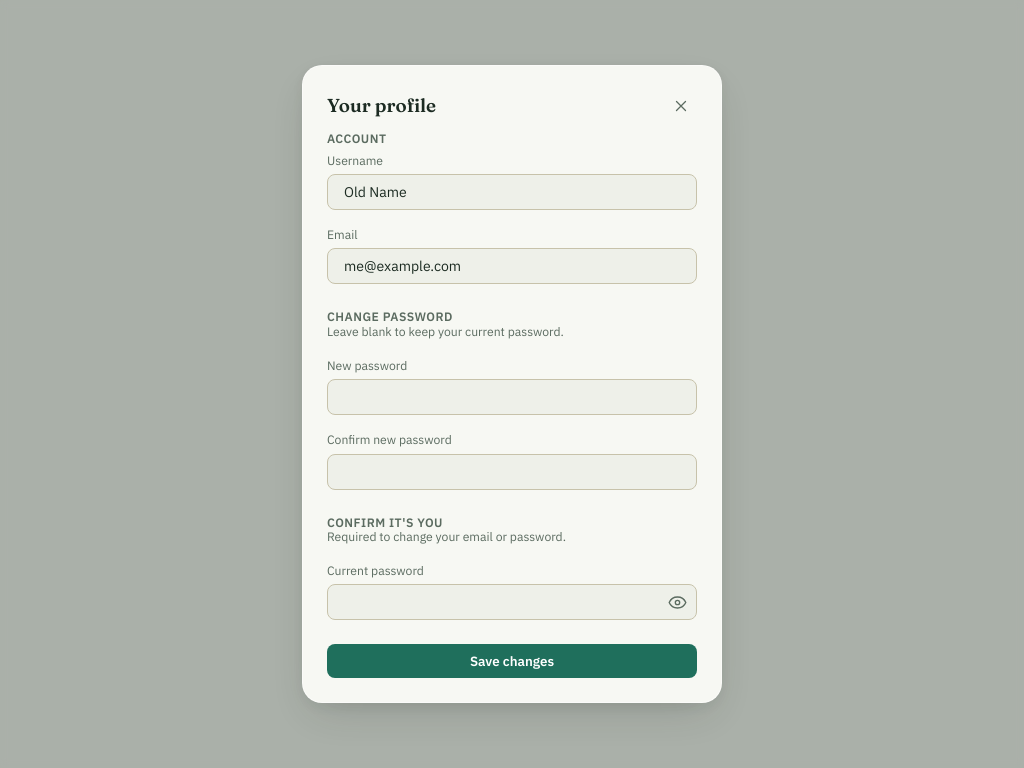
it: ProfileModalComponent › changes the email once the current password is provided
Replace the text in the field labelled "Email" with "new@example.com": (512, 266) [327, 248, 697, 284]
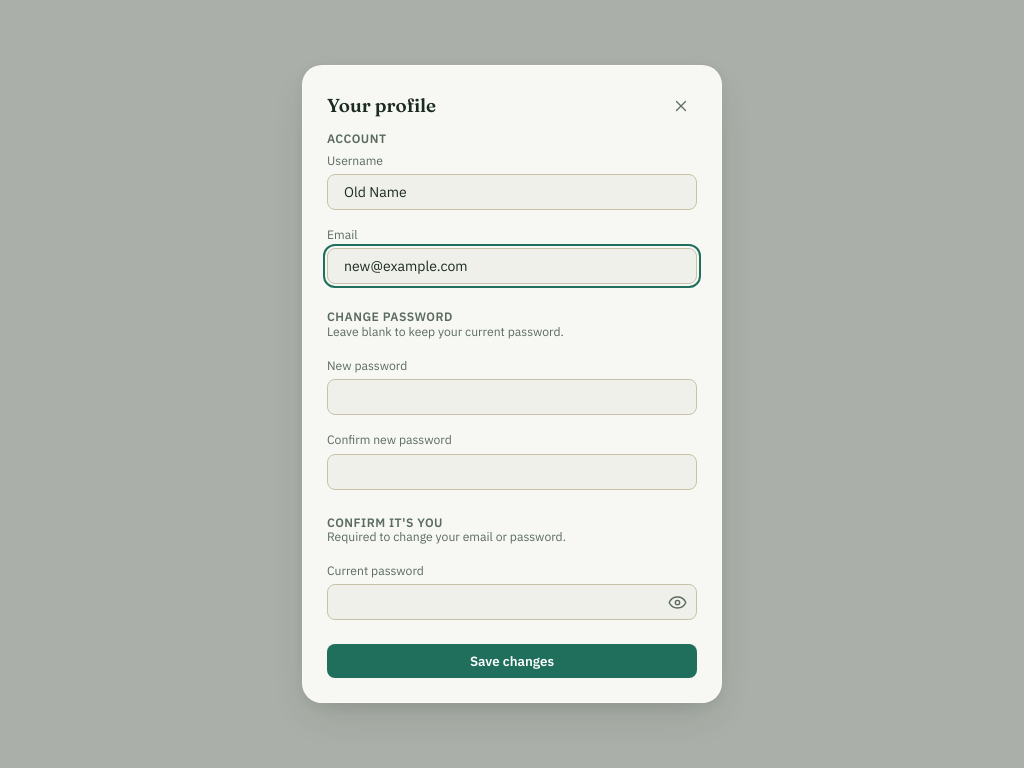
In the password field labelled "Current password": (512, 602) [327, 584, 697, 620], type "hunter22"
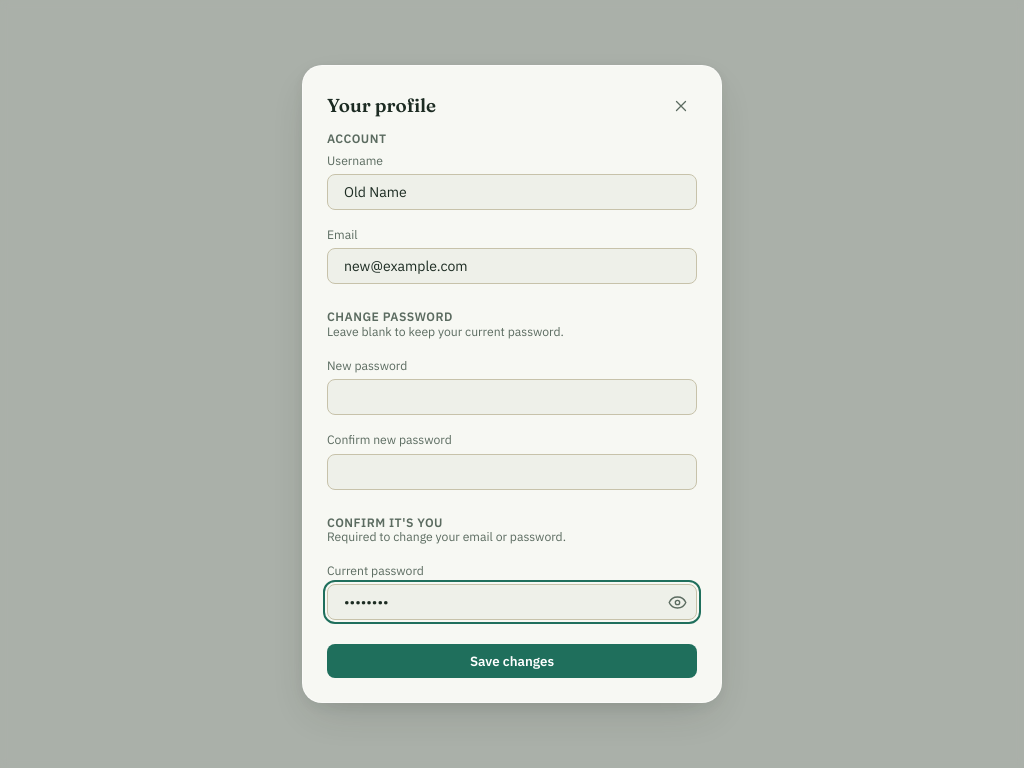
Click the button "Save changes": (512, 661) [327, 644, 697, 678]
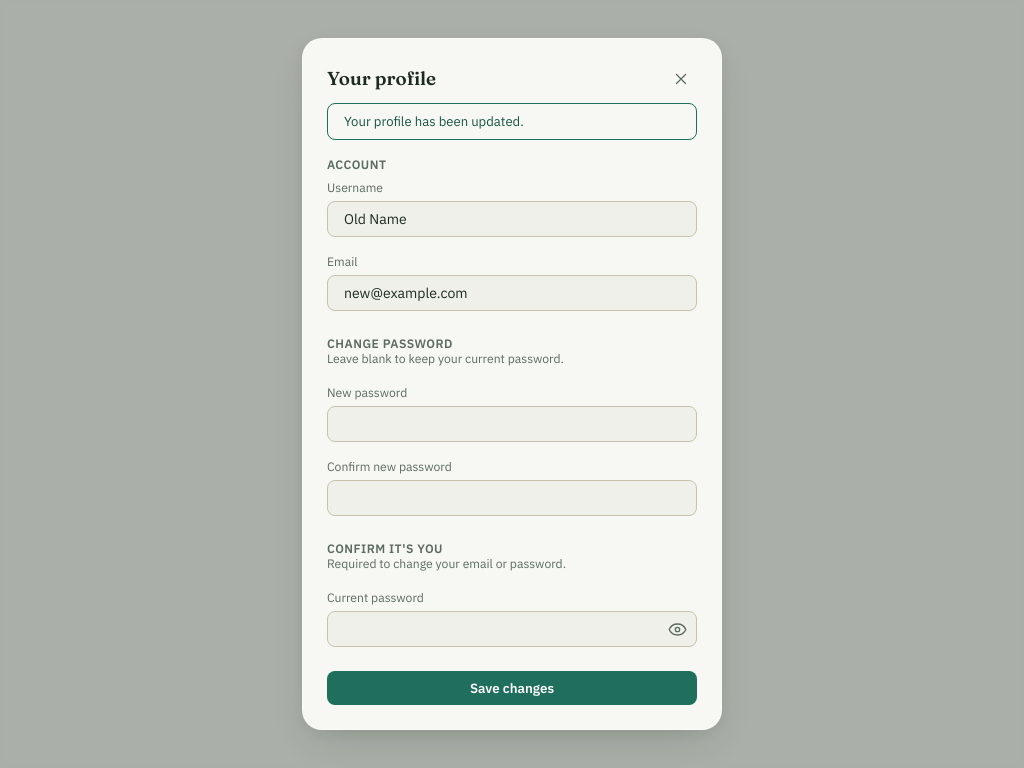
Result: the message shows "updated" at [344, 113, 524, 130]
